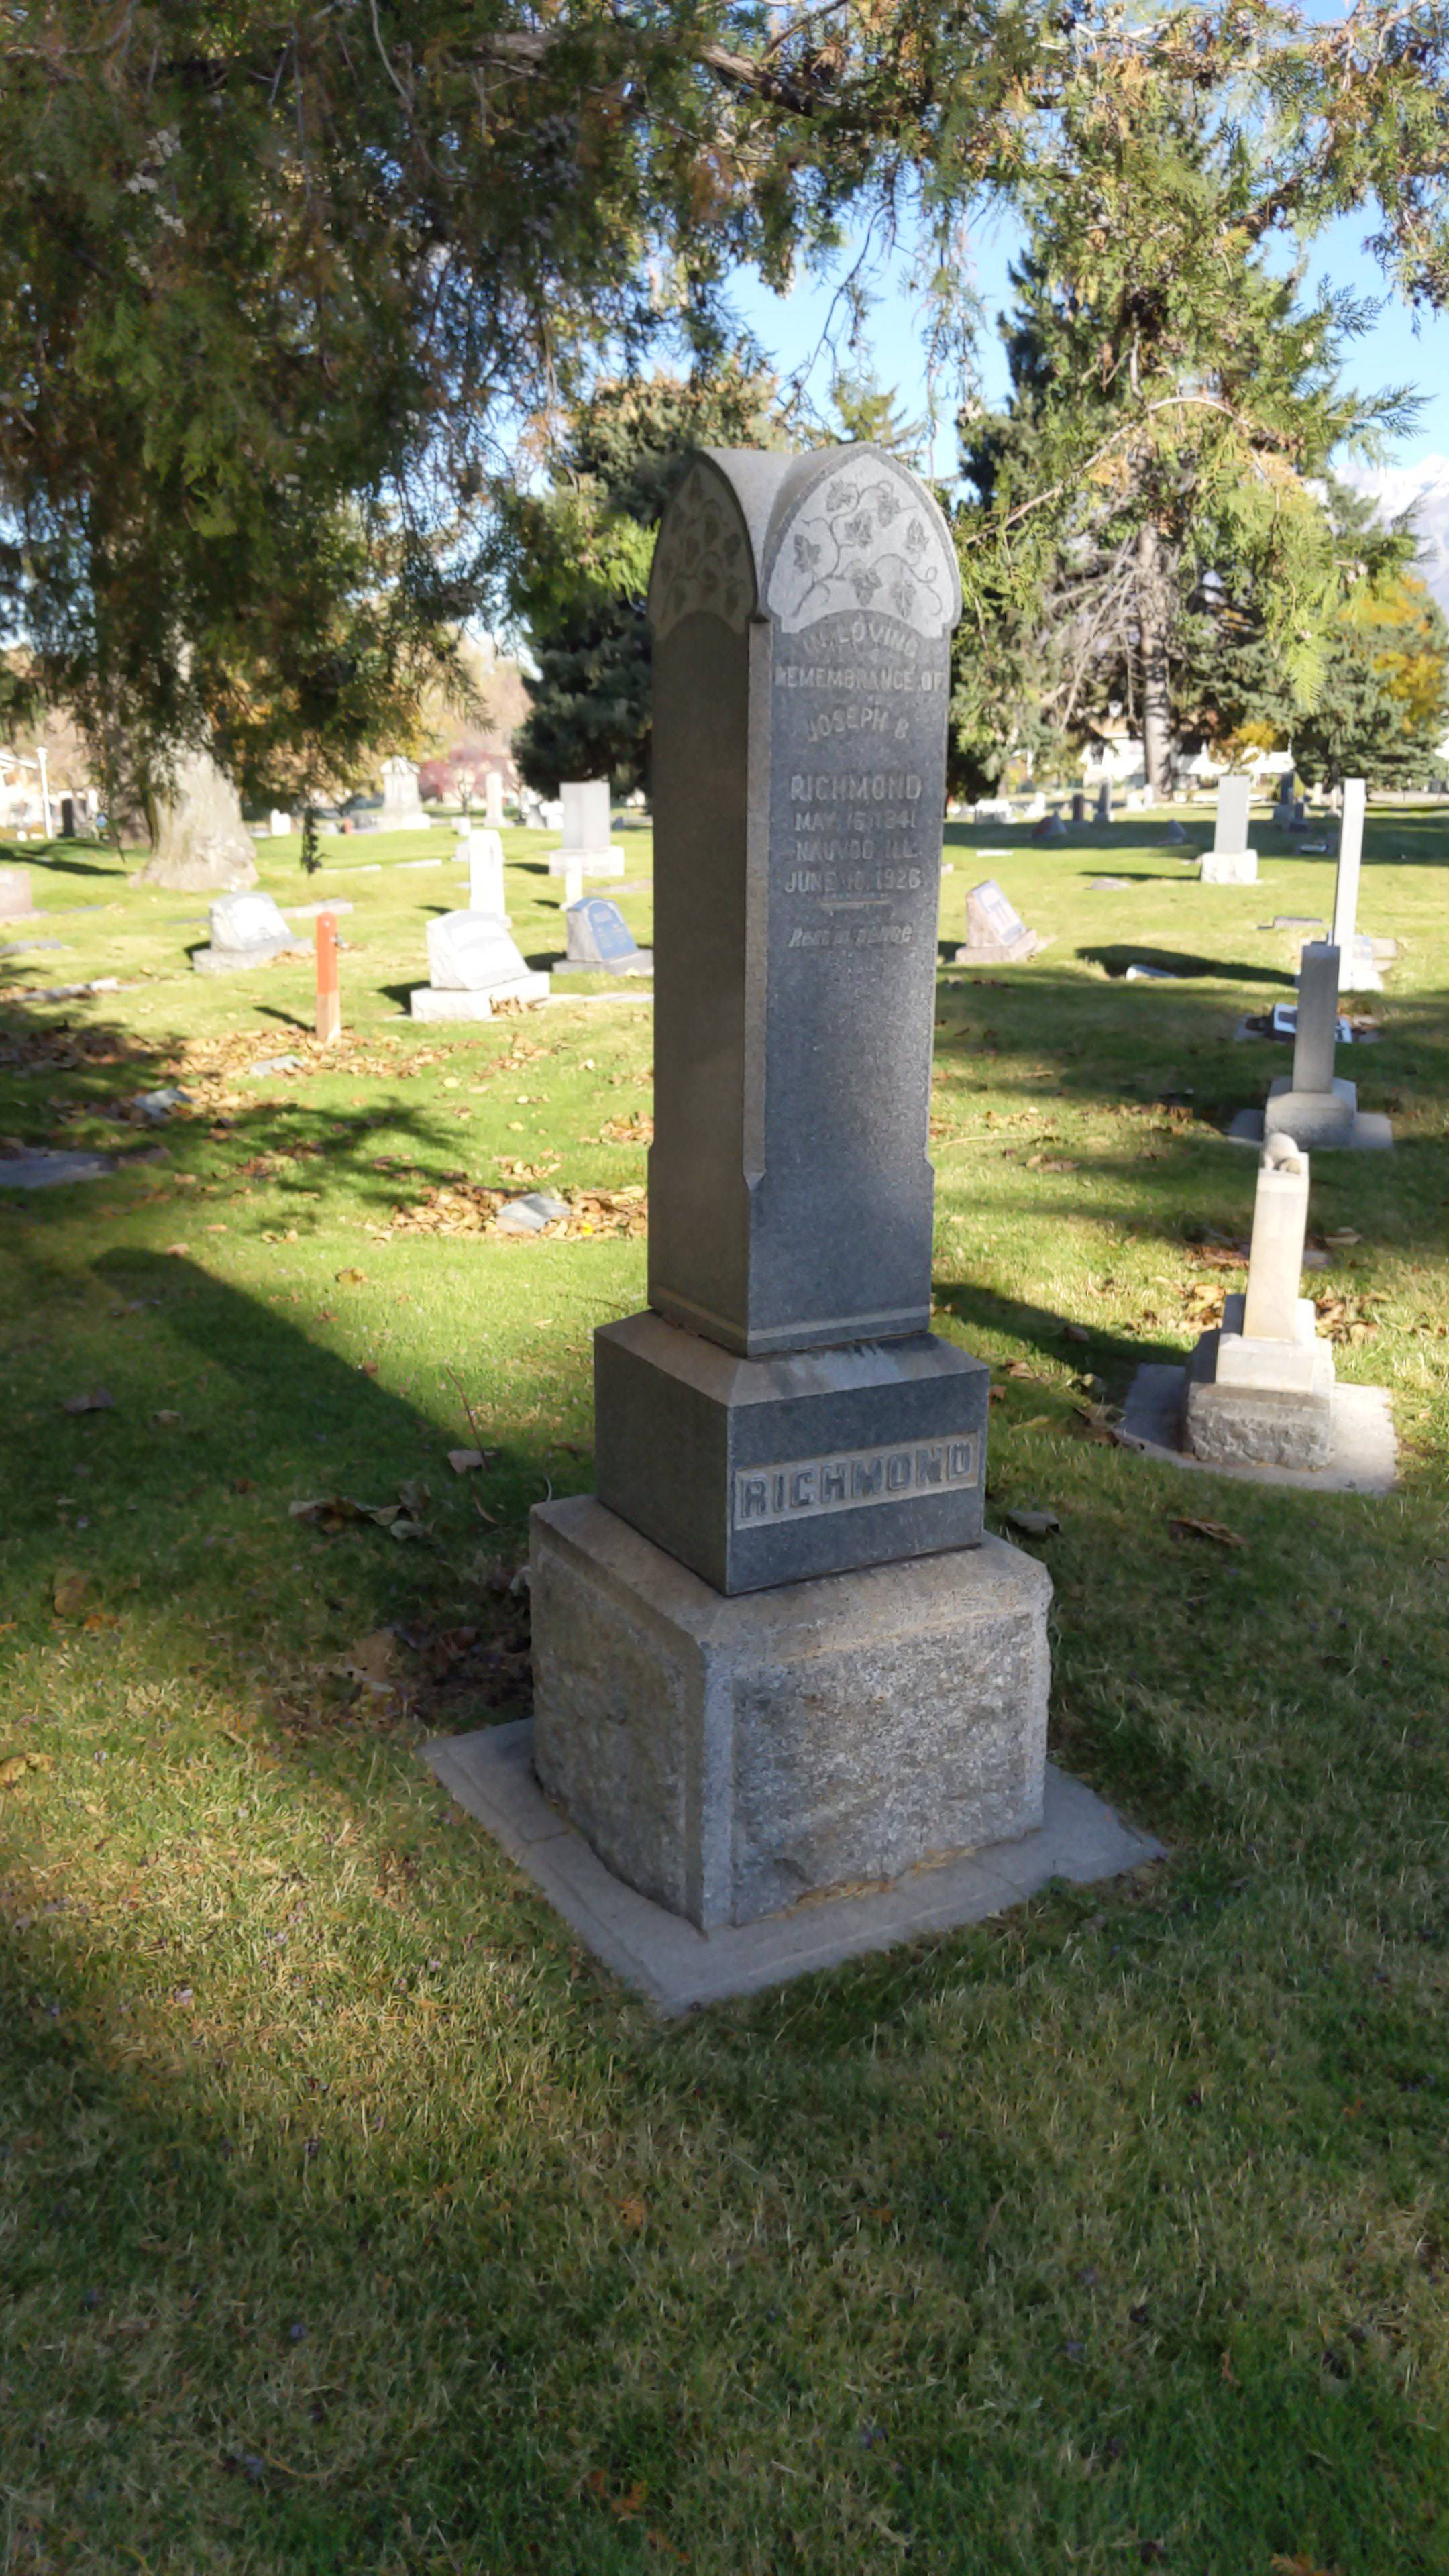obelisk: (600, 437, 985, 1598)
